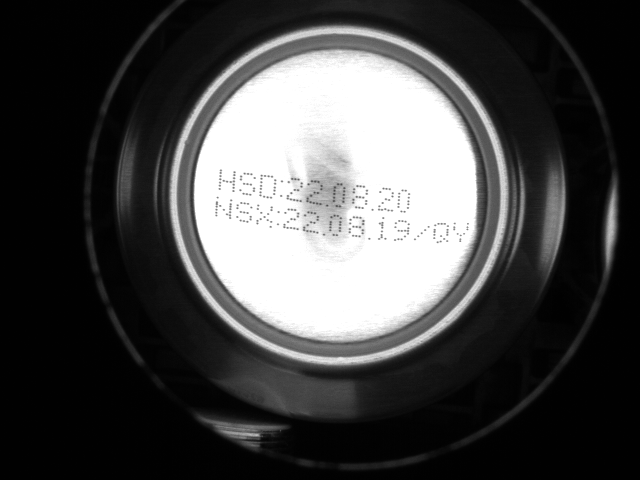/: (415, 221, 432, 243)
0: (329, 178, 349, 210), (325, 215, 344, 243), (396, 184, 413, 214)
1: (374, 218, 388, 241)
2: (372, 182, 394, 214), (308, 178, 327, 207), (281, 206, 300, 234), (287, 178, 304, 204), (304, 210, 321, 234)
8: (352, 181, 370, 211), (346, 217, 364, 241)
9: (394, 219, 411, 246)
D: (259, 170, 278, 201)
H: (216, 163, 236, 194)
N: (214, 197, 234, 223)
Q: (434, 218, 450, 249)
S: (238, 168, 257, 200), (236, 200, 253, 225)
X: (255, 203, 273, 228)
Y: (450, 216, 471, 247)
